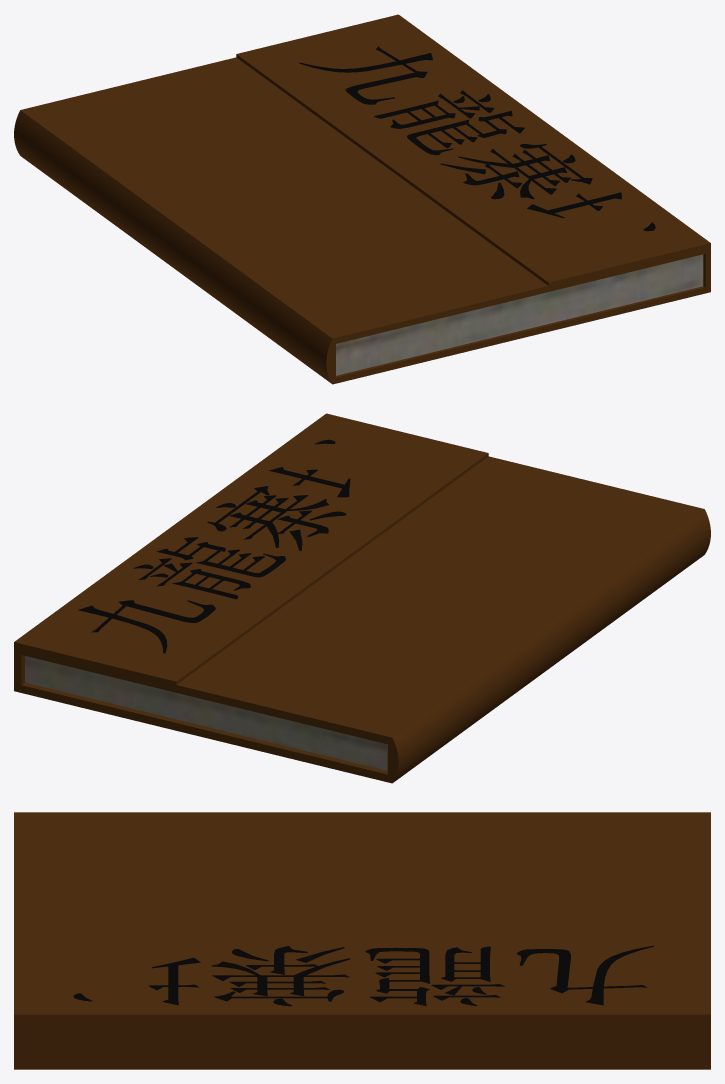
File: 7 - Journal.fbx
3 views of the same model, one above another, from view 1: azimuth 30°, elevation 25°; view 2: azimuth 150°, elevation 25°; view 3: azimuth 270°, elevation 25° (orthographic). The views are drawn at different scales.
Visible parts, largest first — view 1: Model; view 2: Model; view 3: Model.
Boxes of the visible parts, left/top/right/bottom form: Model: left=14, top=14, right=710, bottom=384; Model: left=14, top=413, right=710, bottom=783; Model: left=14, top=812, right=710, bottom=1069.
Bounding box in the file's own units: 123 × 15.2 × 173.
